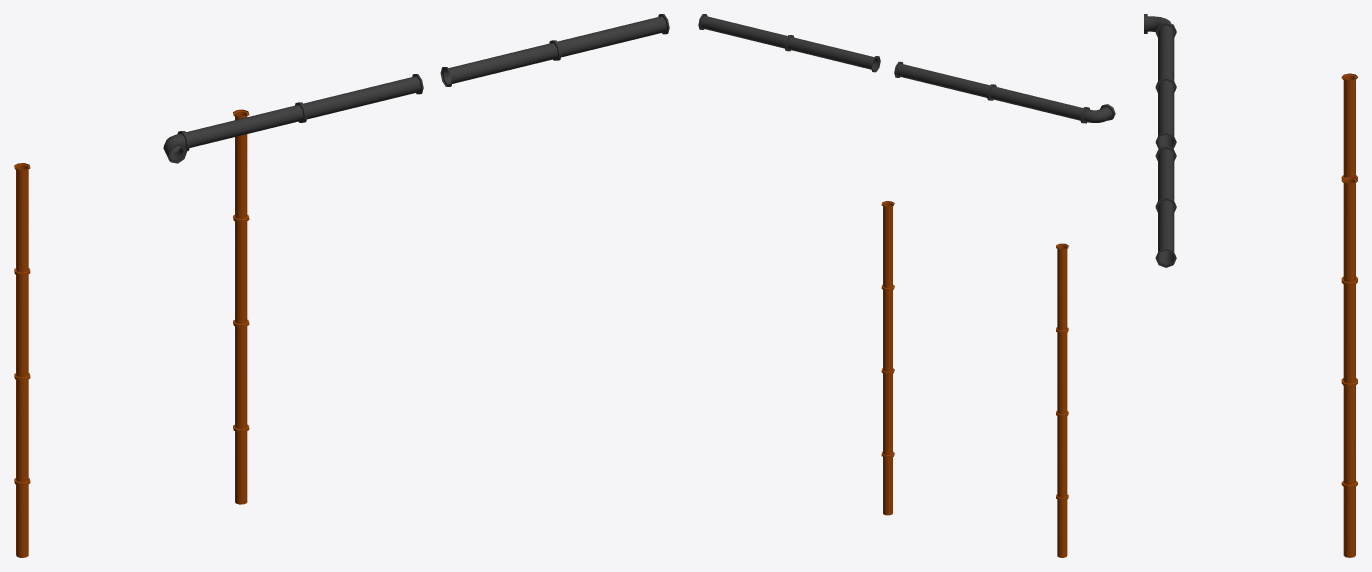
The model's file is SM_H_Building_Tide_InterrogationRoom_06D_ATLAS.fbx.
3 renders of one model, left to right at view 1: azimuth 30°, elevation 25°; view 2: azimuth 150°, elevation 25°; view 3: azimuth 270°, elevation 25°, orthographic. The views are drawn at different scales.
Visible parts, largest first — view 1: SM_H_Building_Tide_InterrogationRoom_06D_ATLAS; view 2: SM_H_Building_Tide_InterrogationRoom_06D_ATLAS; view 3: SM_H_Building_Tide_InterrogationRoom_06D_ATLAS.
Part boxes in pixels (x1,y1,x2,y2): SM_H_Building_Tide_InterrogationRoom_06D_ATLAS: [14, 14, 669, 557]; SM_H_Building_Tide_InterrogationRoom_06D_ATLAS: [698, 14, 1115, 557]; SM_H_Building_Tide_InterrogationRoom_06D_ATLAS: [1144, 14, 1357, 557].
Bounding box in the file's own units: 1225 × 424 × 1009.
